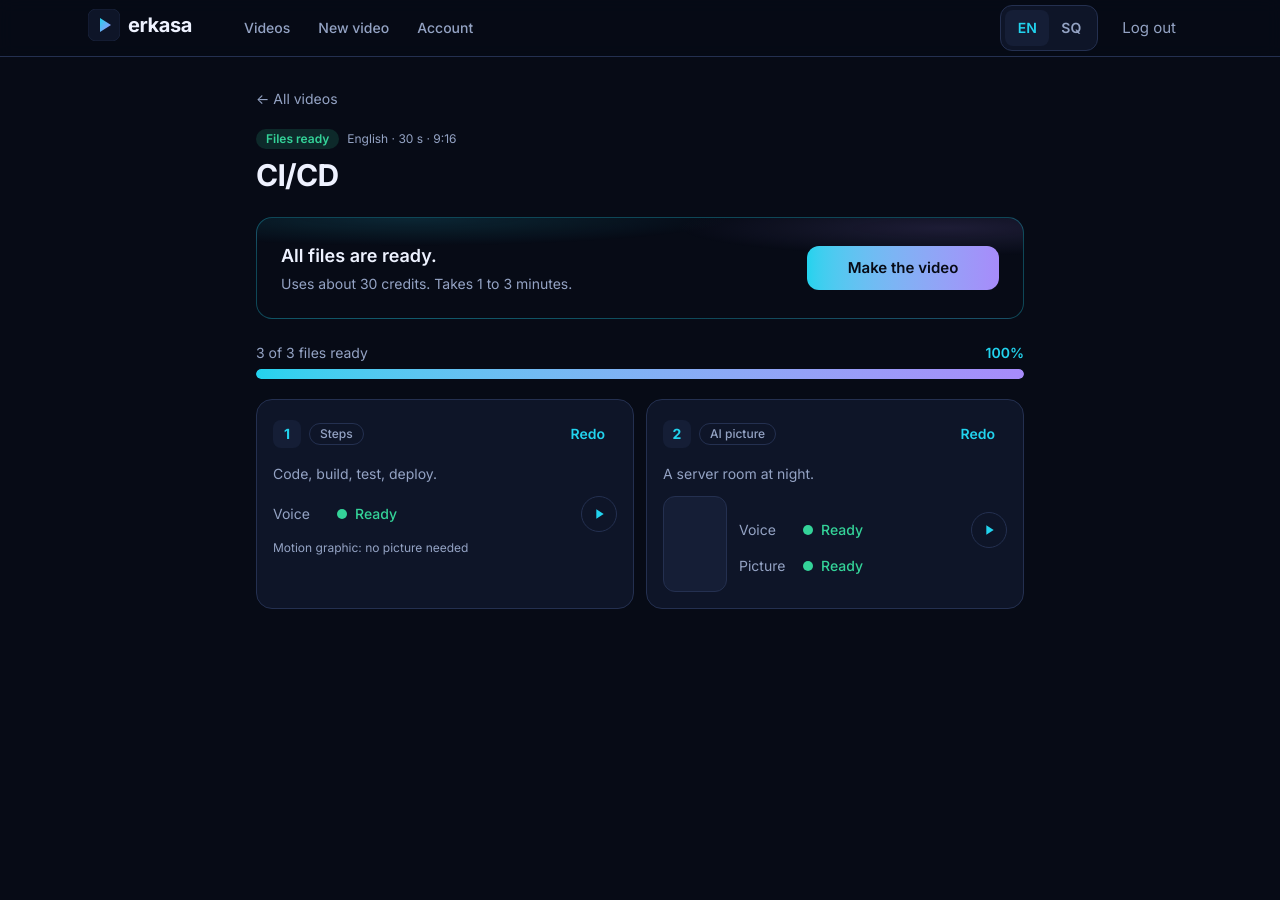
live project page › redoes one scene with a new narration
Click the button "Redo" in the row of "Steps". click: (588,434)
box: [558,416,617,452]
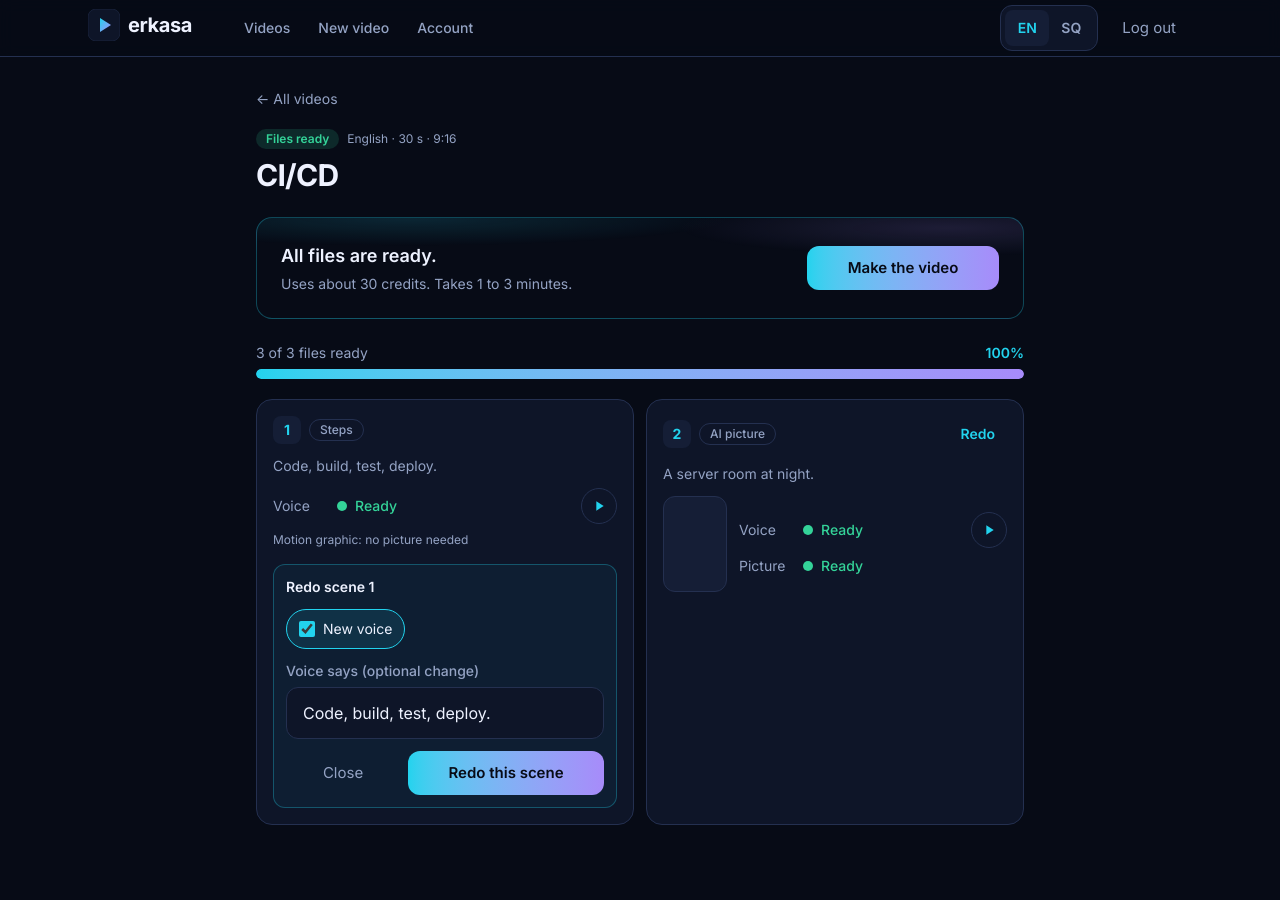
Replace the text in the text box labelled "Voice says (optional change)" with "Code, build, test and ship.". click: (445,713)
box: [286,687,604,739]
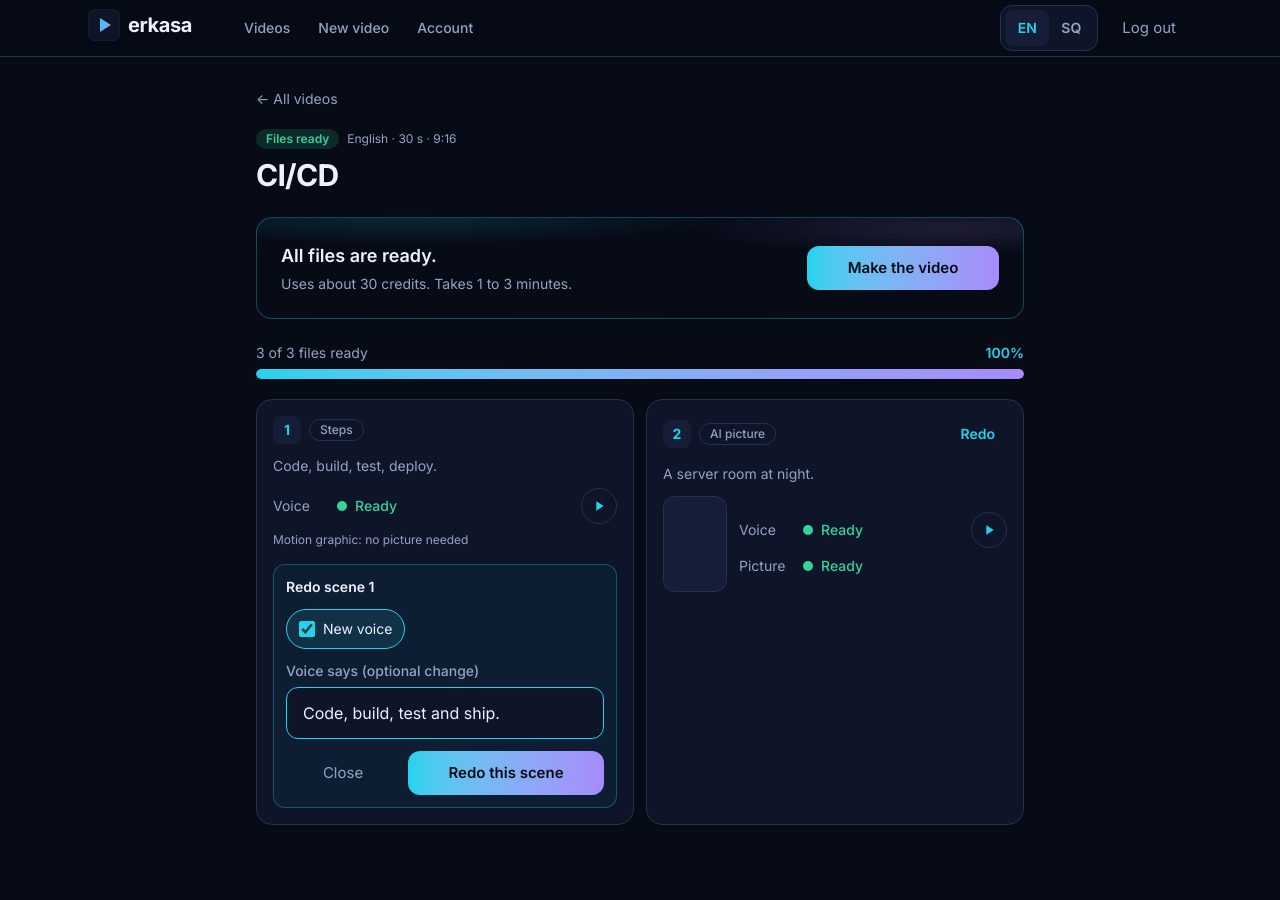
Click the button "Redo this scene". click: (506,773)
box: [408,751,604,795]
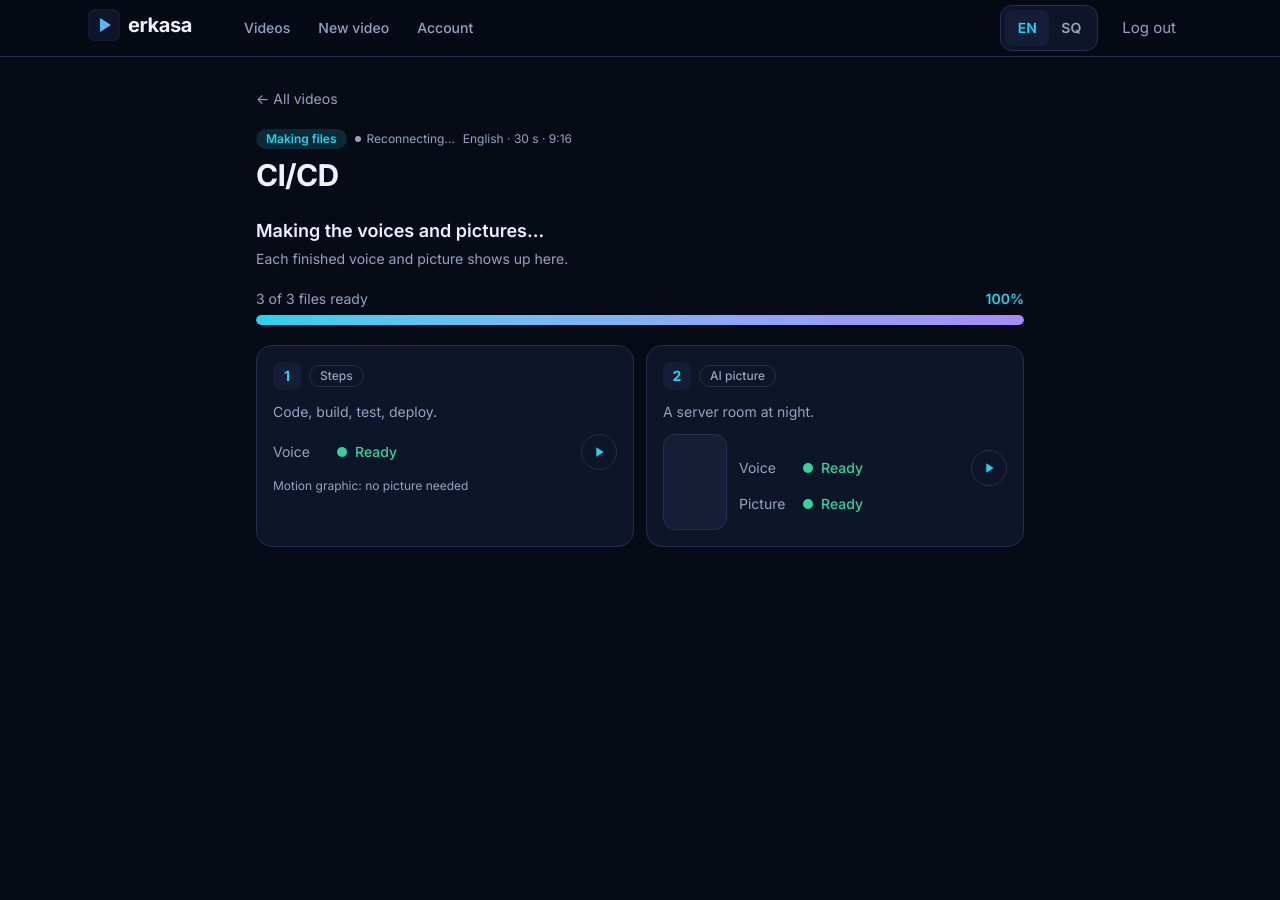
Now the heading "Making the voices and pictures…" is shown, box [256,220,544,241]
